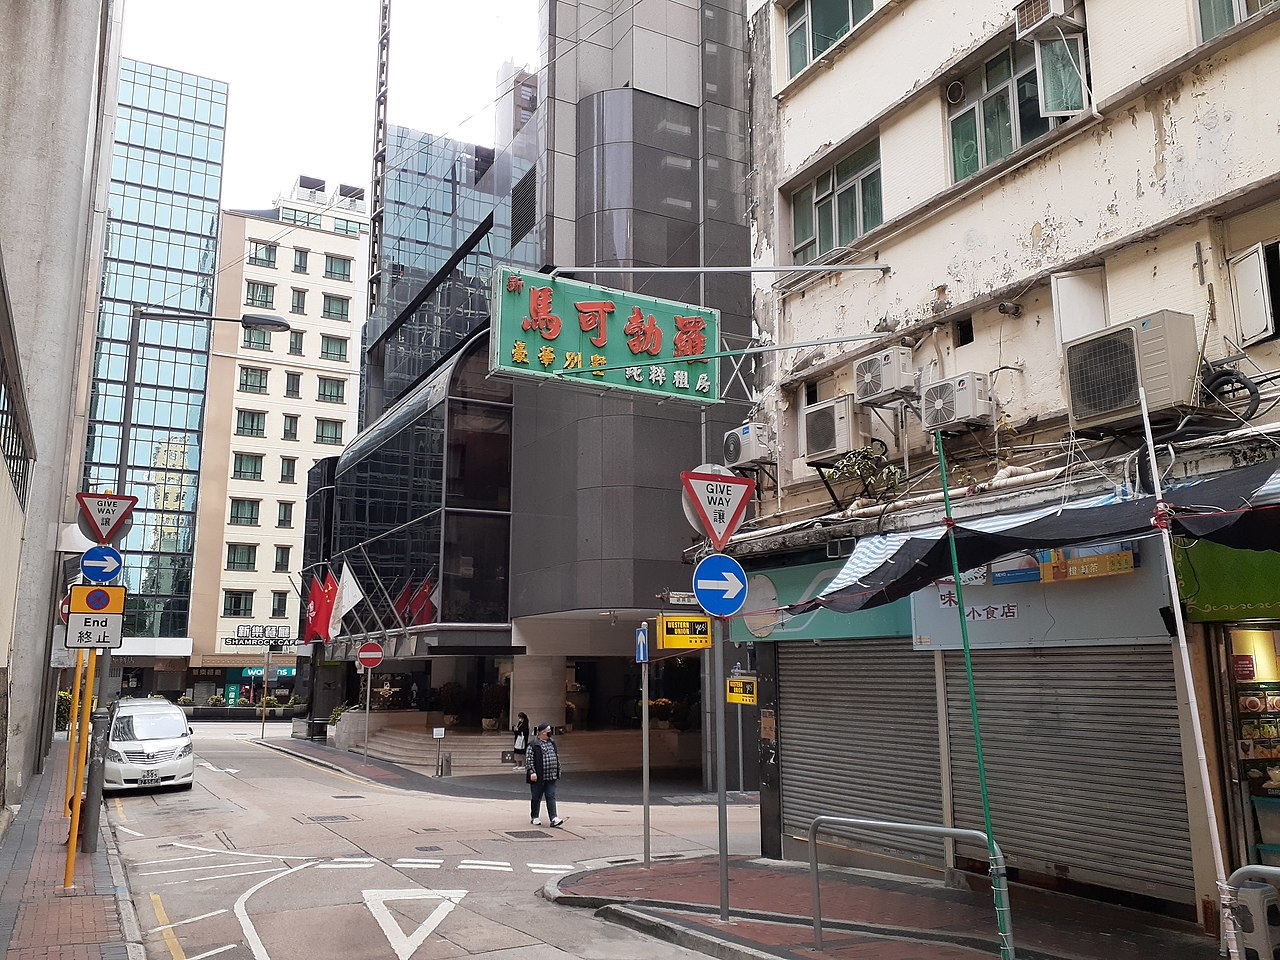End Of No Stopping: (69, 582, 126, 651)
Give Way: (672, 470, 757, 547), (76, 490, 139, 542)
No Enter: (357, 640, 387, 670)
One Way Traffic: (632, 627, 649, 664)
Turn Right: (690, 557, 750, 618), (78, 545, 127, 582)
